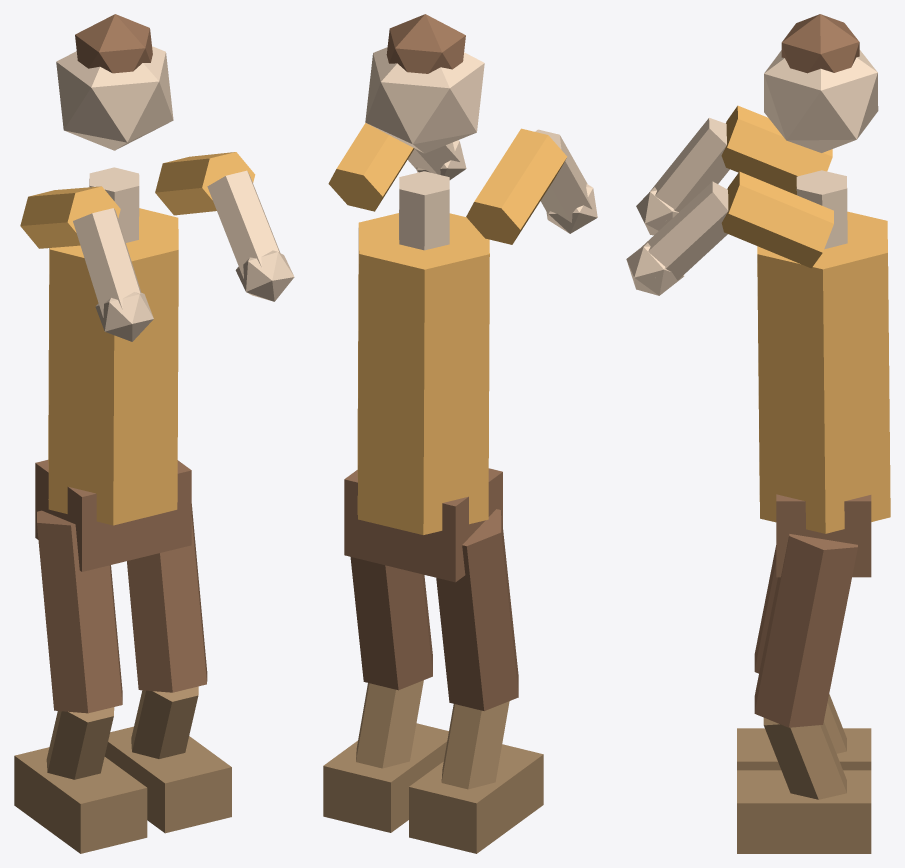
Rendered from pose_idle_01.glb.
3 views of the same model, side by side, from view 1: azimuth 30°, elevation 25°; view 2: azimuth 150°, elevation 25°; view 3: azimuth 270°, elevation 25° (orthographic).
Visible parts, largest first — view 1: pose; view 2: pose; view 3: pose.
Part boxes in pixels (x1,y1,x2,y2): pose: [14, 14, 294, 853]; pose: [323, 14, 597, 853]; pose: [626, 14, 890, 853].
Size of the model in its own units: 0.3965 by 1.59 by 0.4733.
